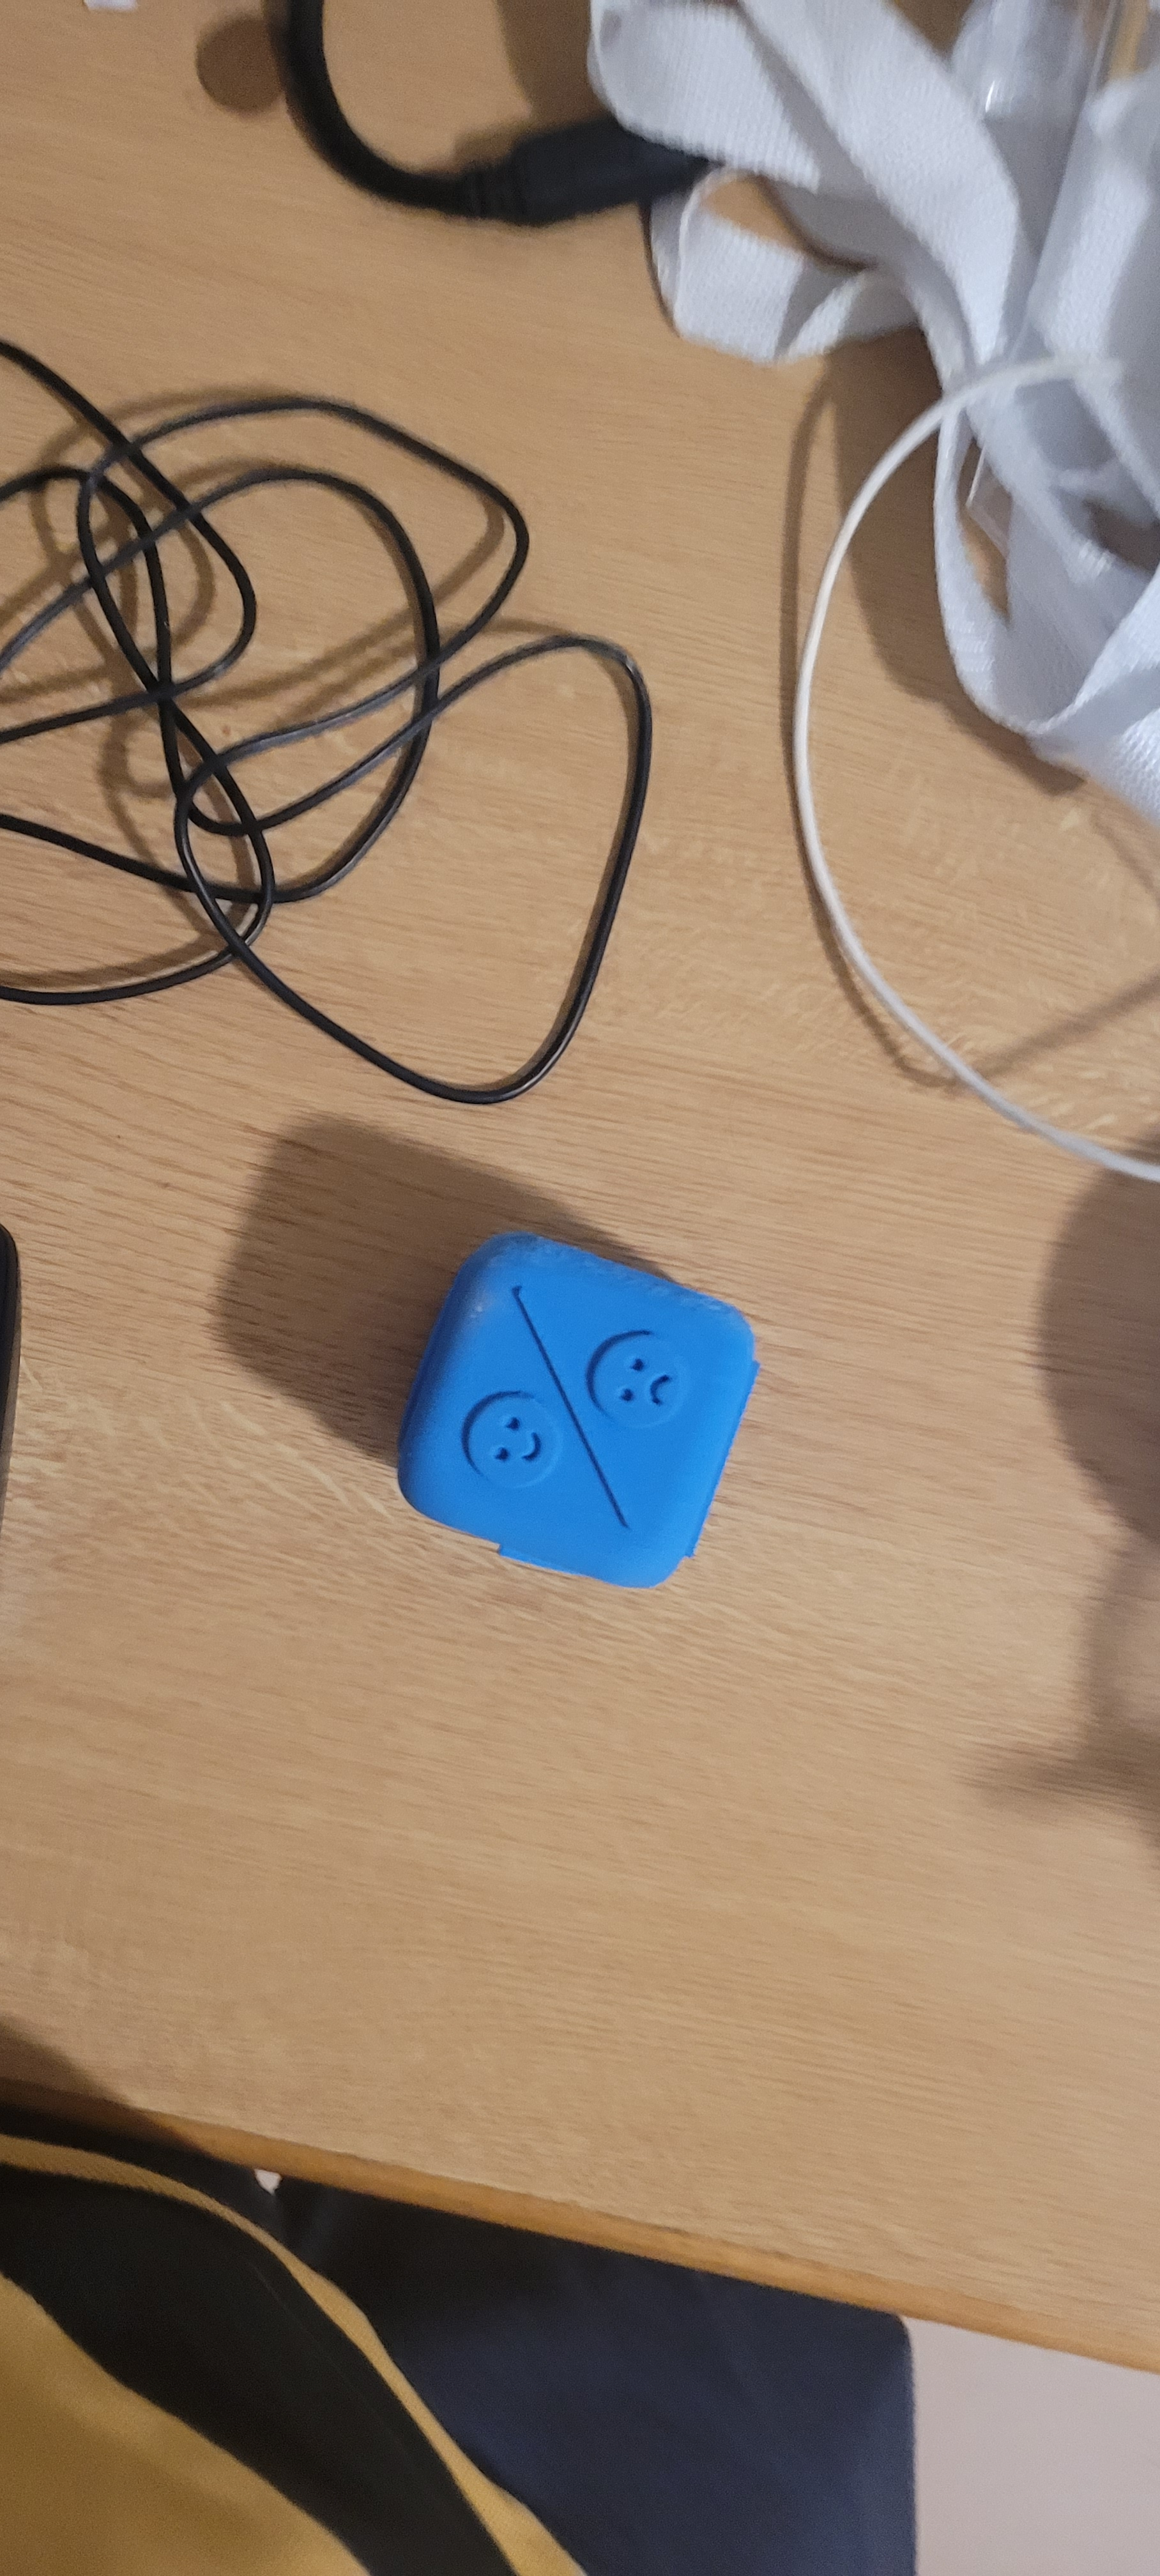Like/Dislike: (399, 1193, 757, 1559)
